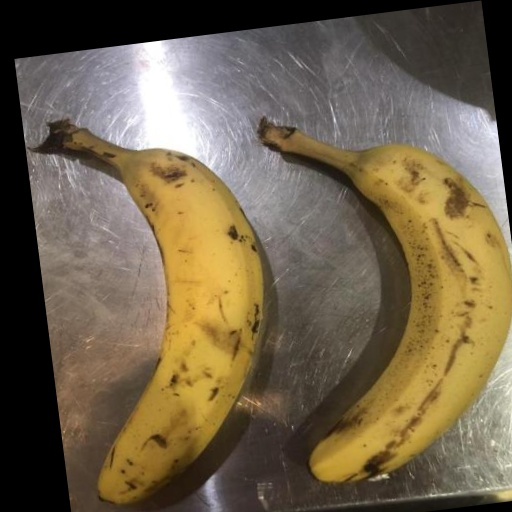fruit: (259, 118, 512, 481), (35, 120, 263, 503)
